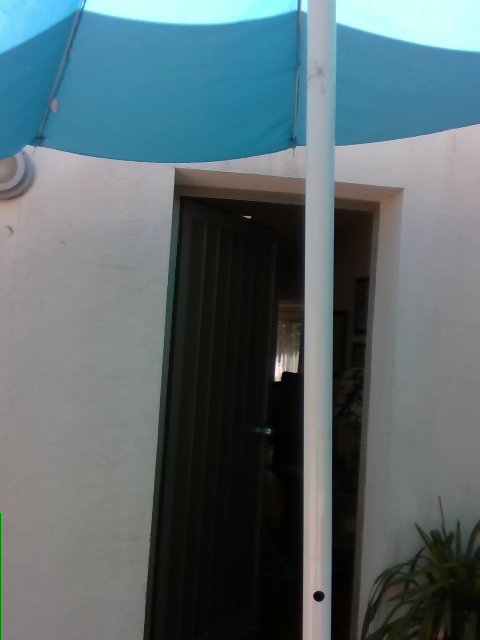semi: (142, 170, 404, 639)
